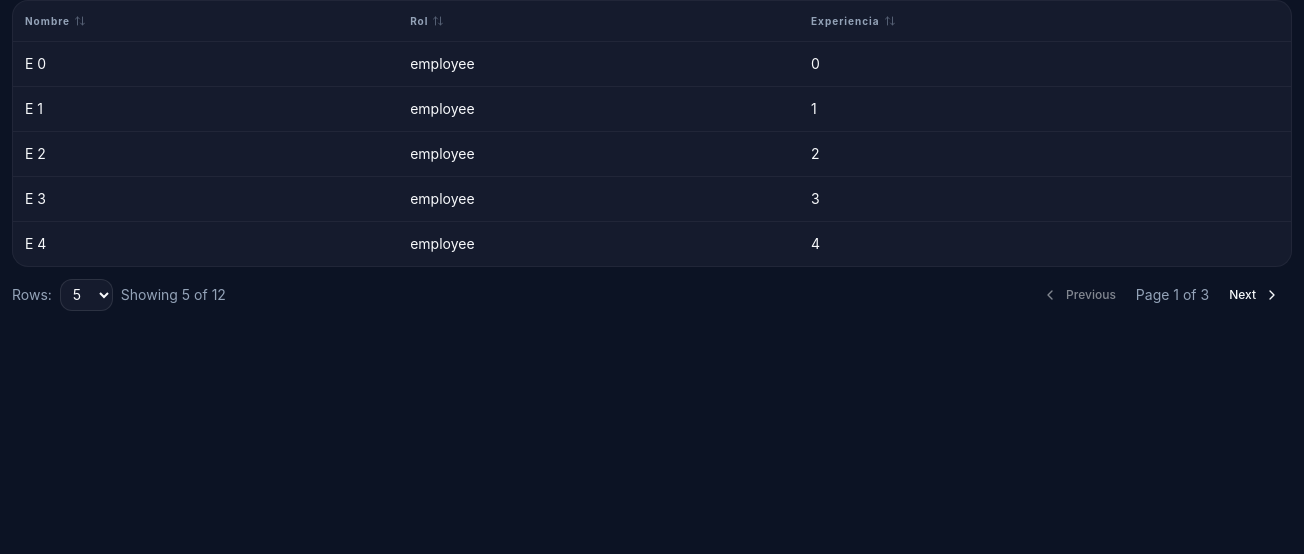
Test: DataTable › cambiar el page size re-pagina las filas
The width and height of the screenshot is (1304, 554).
Expected: the text with test id "datatable-page-info" reads "Page 1 of 3", x1=1136 y1=286 x2=1209 y2=302
Select "10" in the dropdown with test id "datatable-page-size" at (86, 294), box x1=60 y1=278 x2=113 y2=310
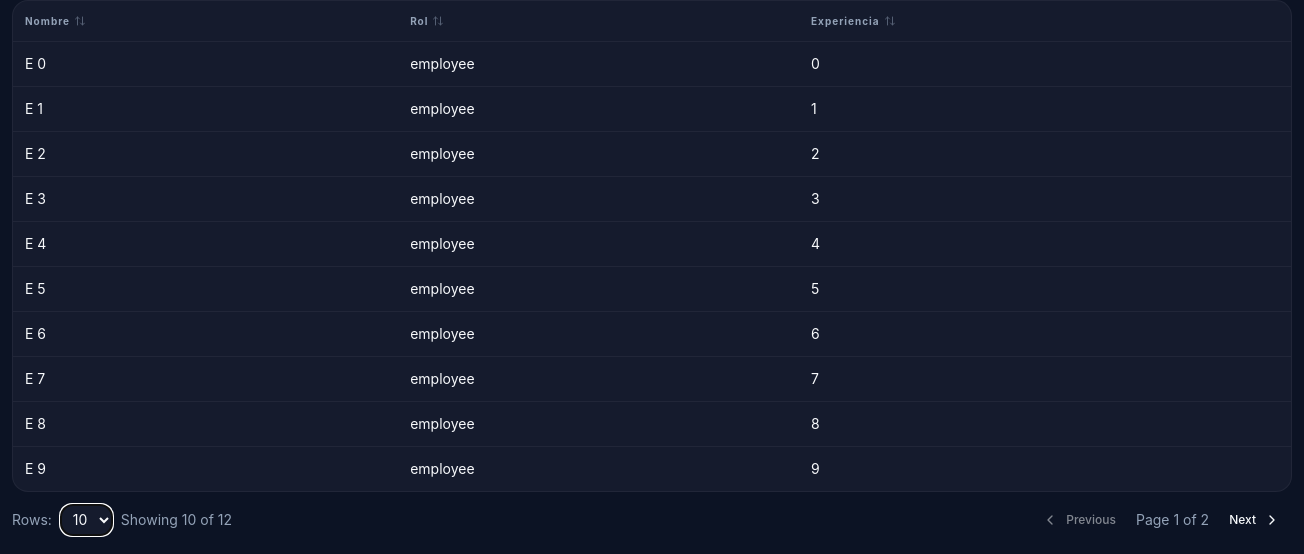
Now the text with test id "datatable-page-info" reads "Page 1 of 2", box x1=1136 y1=510 x2=1209 y2=528
